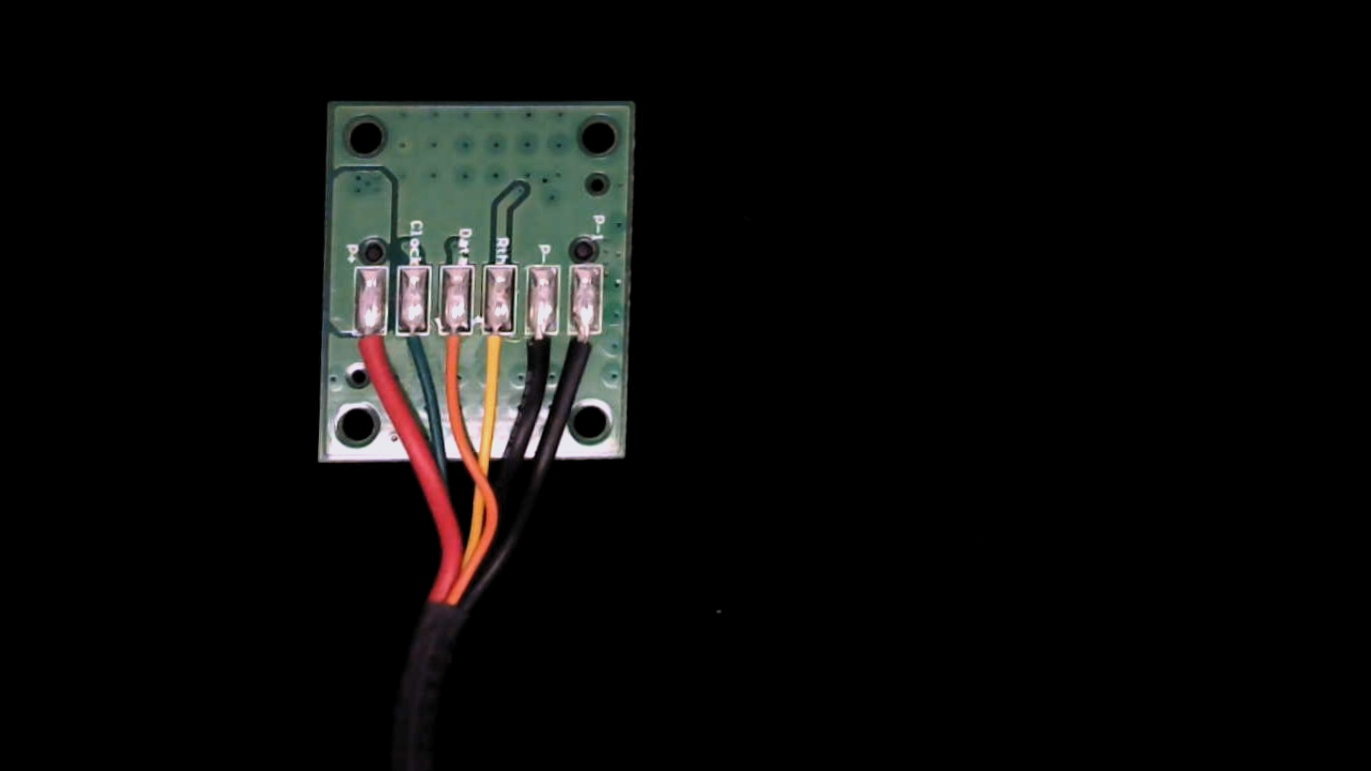Black: (517, 313, 561, 395)
Black1: (564, 313, 602, 379)
Green: (392, 316, 436, 383)
Orange: (434, 316, 472, 381)
Red: (351, 316, 390, 383)
Yellow: (476, 316, 517, 381)
